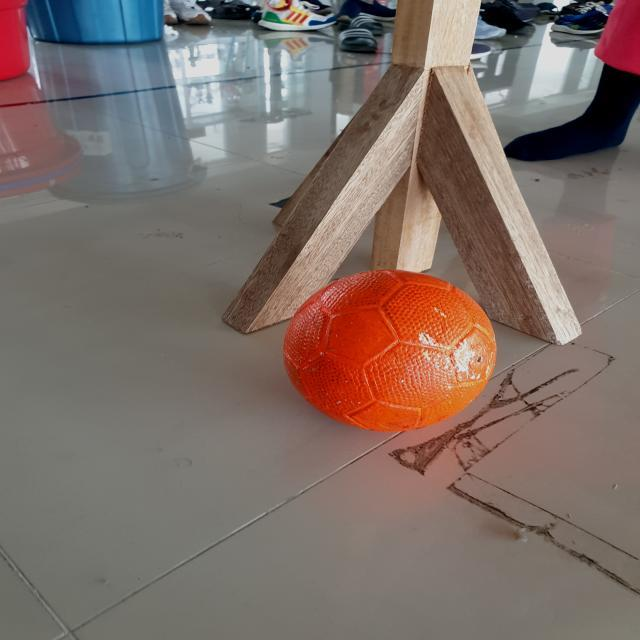bola: (264, 254, 511, 442)
